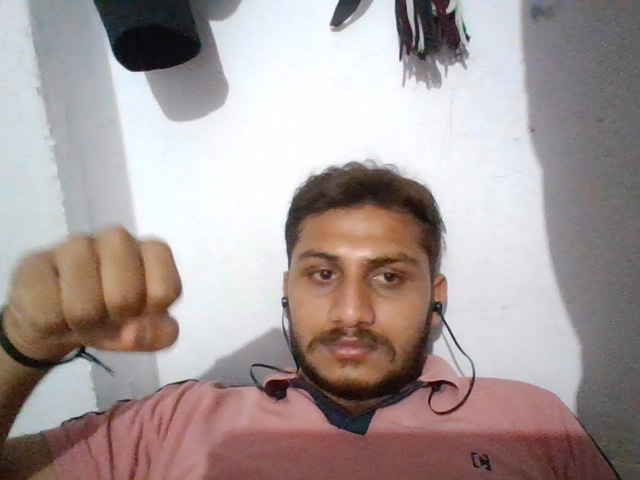Yes: (1, 217, 200, 363)
